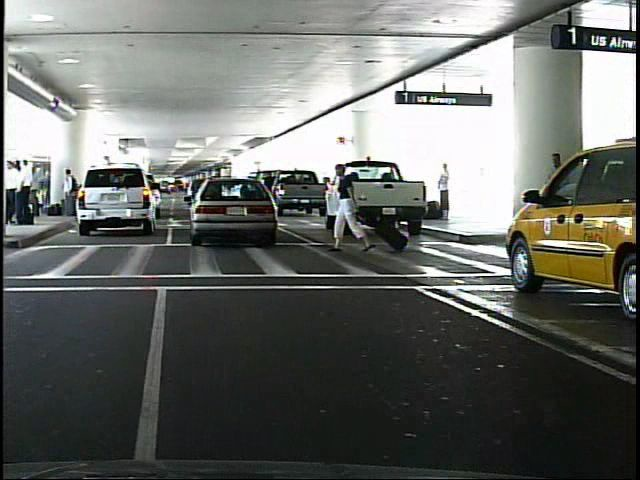person: (541, 143, 575, 259), (333, 160, 374, 255), (433, 159, 457, 221), (22, 159, 37, 227), (63, 165, 80, 221), (8, 160, 21, 222)
